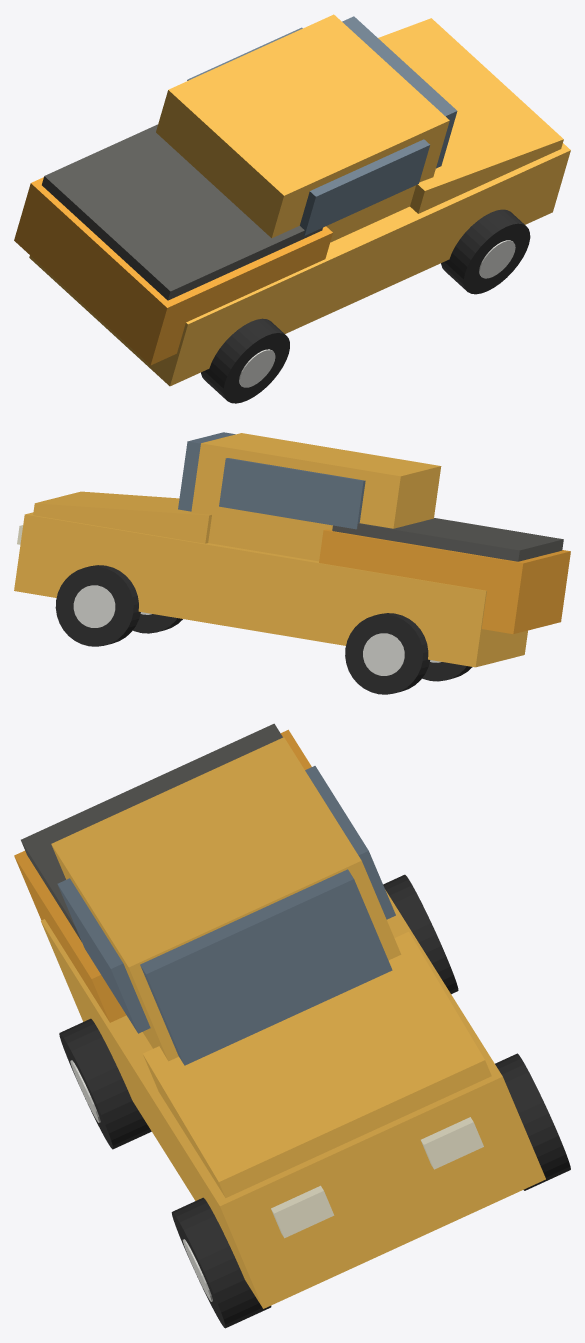
File: university-transport.glb
3 renders of one model, top to bottom at view 1: azimuth 30°, elevation 25°; view 2: azimuth 150°, elevation 25°; view 3: azimuth 270°, elevation 25°, orthographic. The views are drawn at different scales.
Size of the model in its own units: 3.82 by 1.96 by 2.43.
